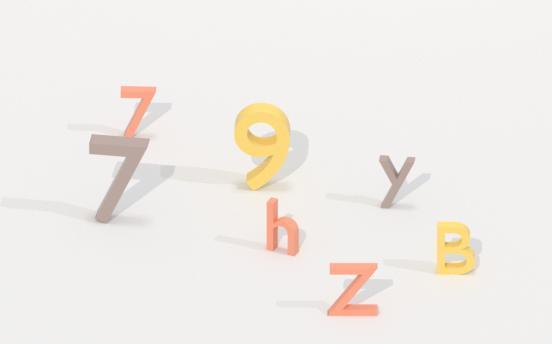chu_khoi: (327, 263, 378, 315), (436, 222, 475, 274), (266, 198, 298, 255), (379, 155, 414, 207)
so_khoi: (89, 135, 148, 222), (234, 103, 289, 189), (121, 86, 155, 137)
